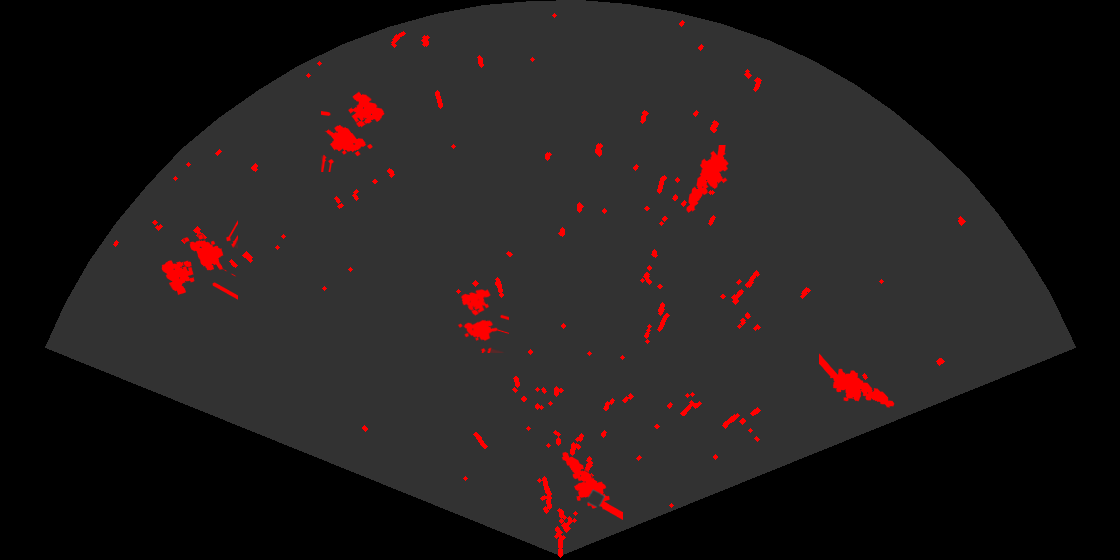cage: (160, 219, 238, 301), (321, 90, 386, 172), (456, 288, 509, 353)
frogman: (560, 450, 623, 521), (819, 352, 896, 409), (685, 145, 730, 214)
